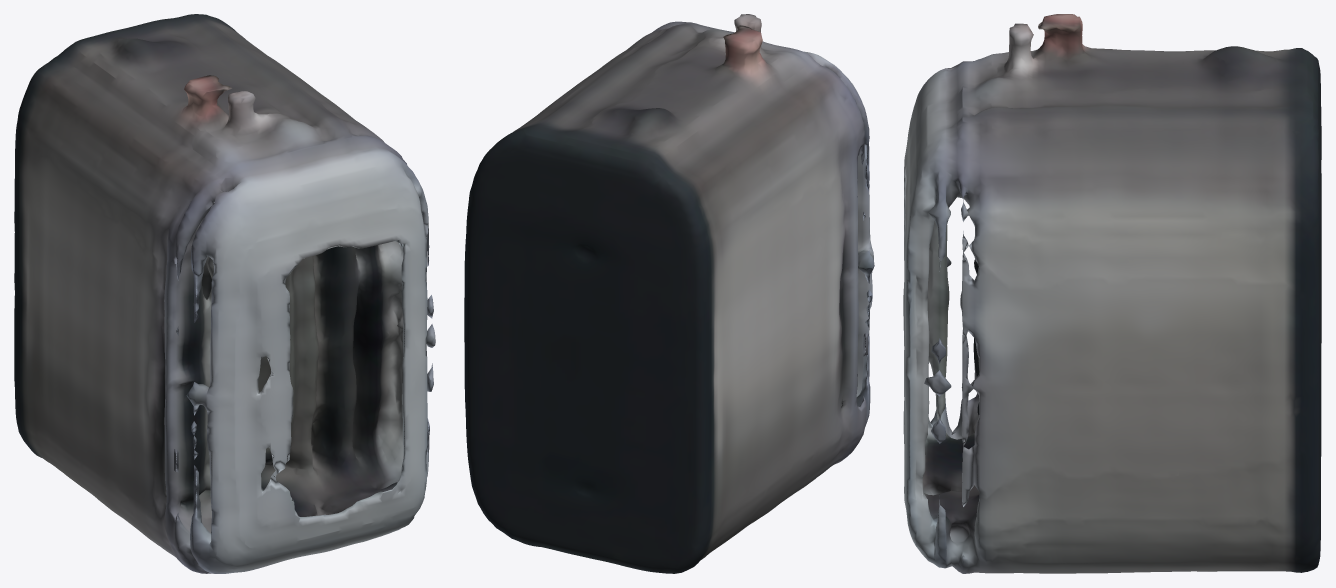
The model's file is toaster.glb.
3 renders of one model, left to right at view 1: azimuth 30°, elevation 25°; view 2: azimuth 150°, elevation 25°; view 3: azimuth 270°, elevation 25°, orthographic. The views are drawn at different scales.
Size of the model in its own units: 0.5654 by 0.9999 by 0.7473.
